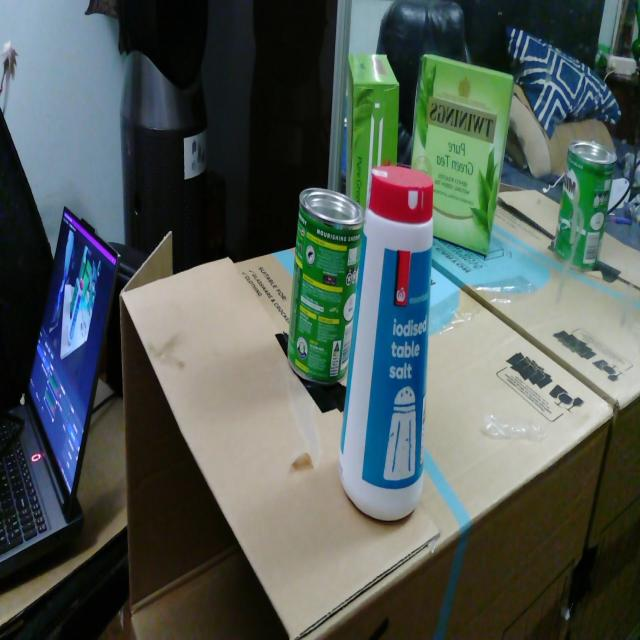nestle_milo_tin: (288, 188, 365, 384)
twinings_greentea_box: (346, 55, 399, 211)
woolworths_salt_bottle: (339, 167, 433, 520)
